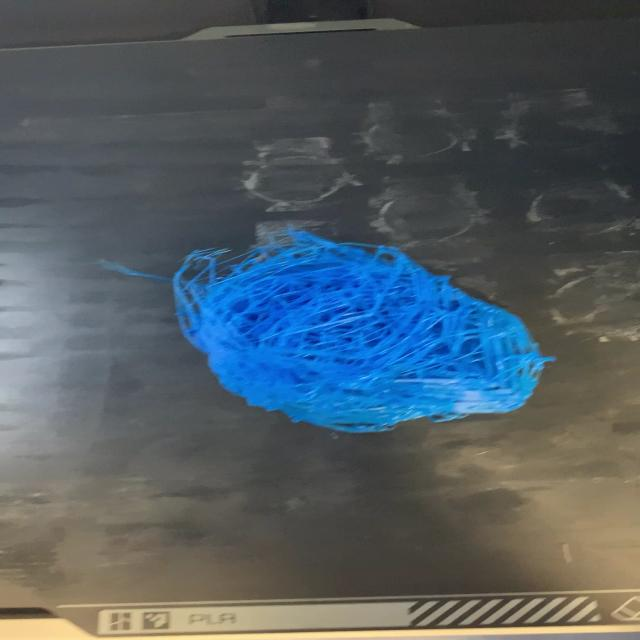spaghetti: (97, 225, 558, 436)
